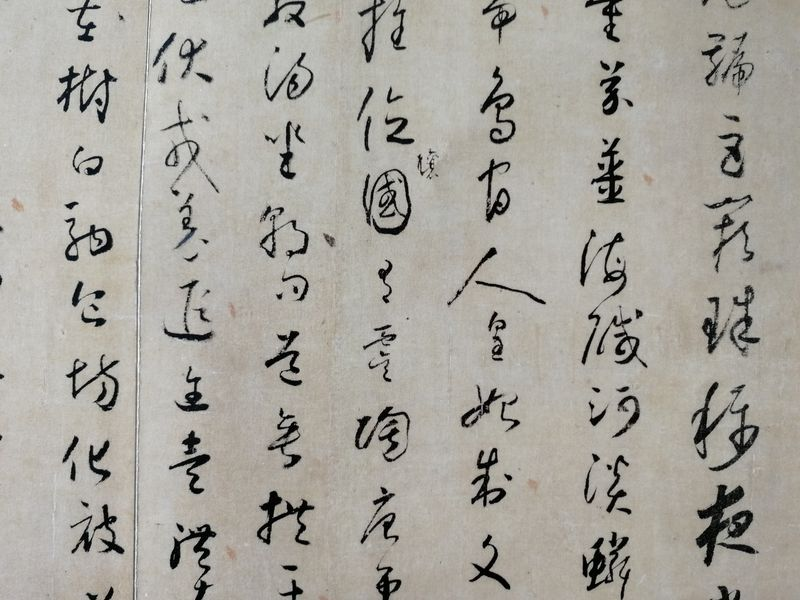zi: (691, 383, 764, 470), (443, 249, 548, 306), (698, 285, 768, 363), (694, 484, 757, 565), (160, 100, 217, 181), (161, 274, 219, 348), (580, 304, 647, 367), (705, 194, 758, 269), (257, 488, 320, 551), (53, 65, 115, 126), (359, 169, 411, 241), (165, 186, 213, 264), (63, 357, 125, 416), (354, 401, 412, 464), (580, 533, 634, 600), (358, 83, 412, 150), (69, 495, 125, 559), (150, 31, 214, 86), (355, 1, 408, 65), (703, 28, 754, 94), (63, 199, 114, 264), (585, 449, 633, 516), (479, 66, 518, 148), (586, 383, 642, 440), (56, 429, 114, 484), (256, 204, 311, 261), (356, 486, 410, 544), (167, 429, 212, 498), (461, 384, 521, 433), (258, 120, 307, 180), (466, 533, 513, 594), (470, 444, 512, 511), (582, 233, 628, 294), (357, 324, 403, 384), (265, 45, 314, 101), (263, 329, 306, 390), (591, 137, 628, 207), (712, 112, 750, 180), (269, 405, 306, 474), (170, 519, 216, 572), (596, 56, 634, 117), (476, 158, 510, 221), (71, 277, 106, 328), (66, 1, 105, 46), (587, 1, 625, 46), (483, 1, 520, 46), (174, 365, 208, 413), (260, 1, 309, 34), (371, 562, 408, 600), (276, 268, 309, 305), (371, 254, 394, 307), (71, 144, 104, 177), (486, 310, 505, 365), (277, 562, 303, 600)
